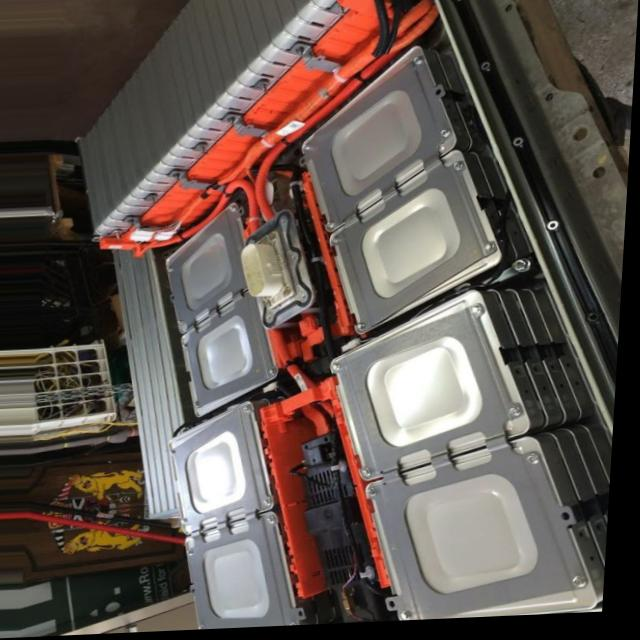Battery Module: (351, 310, 571, 618), (324, 77, 474, 318), (189, 413, 282, 628), (181, 219, 256, 398)
Bolt: (574, 575, 598, 600), (527, 450, 553, 472), (187, 545, 210, 568), (327, 361, 355, 379), (449, 161, 474, 181), (464, 309, 495, 325), (510, 409, 536, 428), (399, 608, 428, 625), (361, 464, 384, 484), (479, 242, 502, 260), (297, 141, 320, 159), (408, 59, 433, 75), (177, 516, 205, 530), (327, 235, 353, 250), (368, 489, 388, 508), (170, 445, 190, 464), (434, 129, 457, 145), (352, 322, 377, 336), (271, 512, 288, 532), (322, 217, 341, 234), (192, 398, 215, 412), (265, 497, 285, 512), (225, 205, 248, 218), (162, 260, 181, 275), (262, 367, 282, 381), (245, 405, 261, 418), (201, 621, 218, 632), (289, 615, 302, 628)
Bus-bar: (265, 379, 399, 601), (303, 174, 354, 337), (276, 320, 328, 370)
Cable: (134, 20, 429, 261)
Nut: (142, 192, 169, 216), (187, 142, 215, 160), (289, 44, 315, 61), (119, 214, 142, 233), (253, 81, 274, 101), (221, 109, 246, 125), (171, 169, 194, 186)
